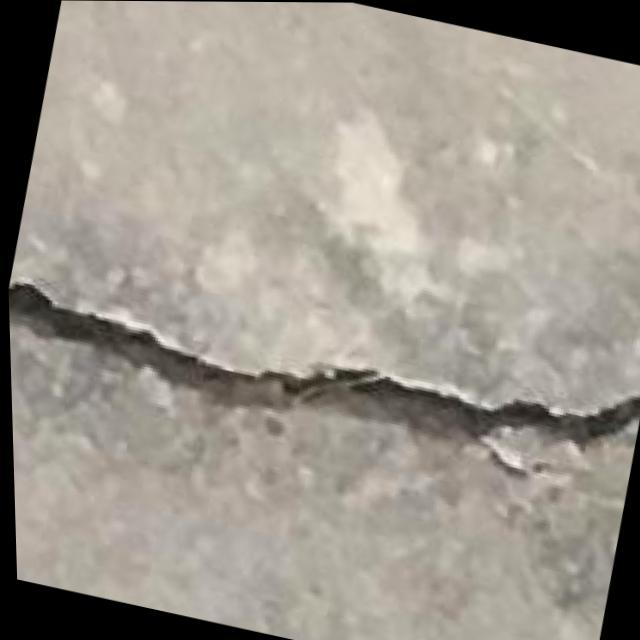Crack: (6, 254, 640, 502)
